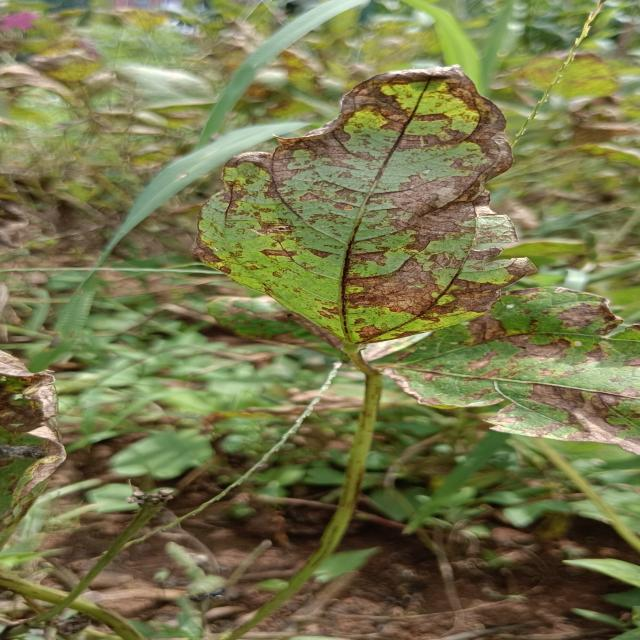Black gram_leaf spot: (209, 69, 526, 356)
